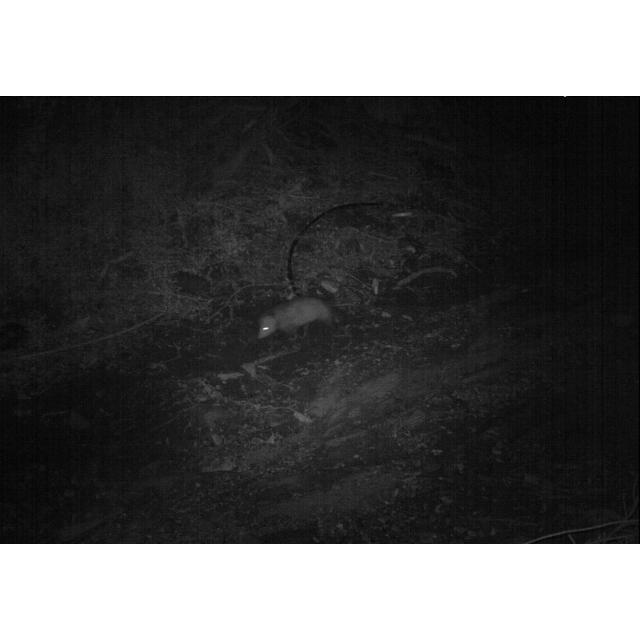animals: (258, 292, 340, 344)
